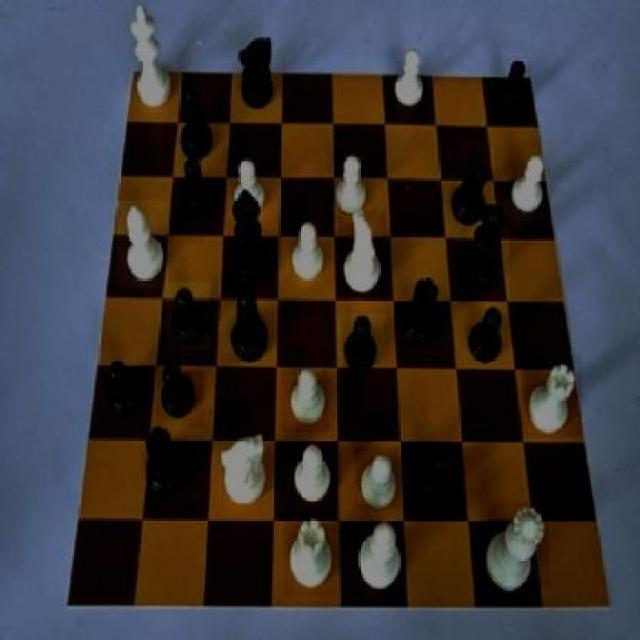bishop: (223, 285, 272, 367), (174, 77, 217, 161)
black-bishop: (226, 188, 271, 292)
black-king: (230, 28, 282, 115), (444, 148, 494, 234)
black-knight: (100, 352, 148, 428), (465, 297, 512, 373), (412, 446, 462, 514), (157, 358, 205, 428), (336, 314, 384, 381), (166, 283, 210, 351), (491, 56, 532, 122)
black-pawn: (454, 198, 509, 298)
black-queen: (396, 272, 446, 355), (140, 420, 187, 502)
black-rook: (117, 200, 169, 289), (356, 511, 406, 600)
white-bishop: (121, 3, 172, 114)
white-king: (217, 422, 272, 518), (338, 212, 388, 297)
white-knight: (356, 448, 402, 522), (282, 363, 329, 432), (290, 438, 334, 511), (509, 150, 550, 224), (288, 214, 330, 286), (386, 48, 429, 117), (328, 148, 370, 218), (228, 157, 272, 221)
white-pawn: (489, 503, 549, 591)
white-queen: (522, 356, 582, 438), (284, 516, 338, 596)
